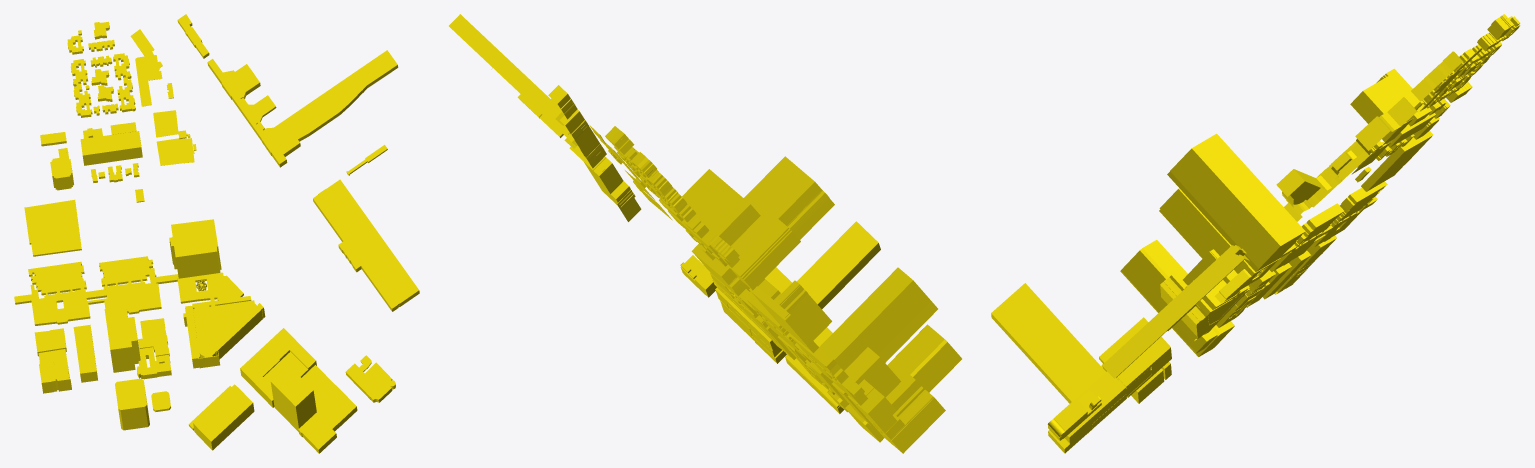
3 views of the same model, side by side, from view 1: azimuth 30°, elevation 25°; view 2: azimuth 150°, elevation 25°; view 3: azimuth 270°, elevation 25° (orthographic). The views are drawn at different scales.
Parts seen in each view (by area): view 1: rootNode; view 2: rootNode; view 3: rootNode.
Boxes of the visible parts, <box> form: rootNode: <box>14,14,419,453</box>; rootNode: <box>449,14,961,453</box>; rootNode: <box>991,14,1520,453</box>.
Size of the model in its own units: 624 by 521 by 604.
